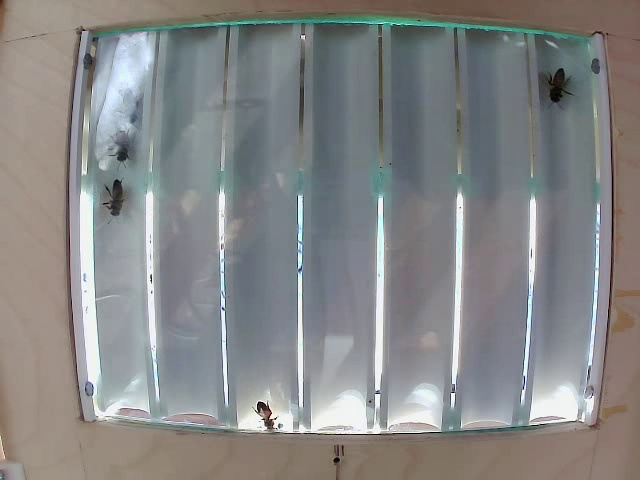bee: (108, 127, 141, 175), (540, 64, 569, 113), (103, 185, 141, 222)
